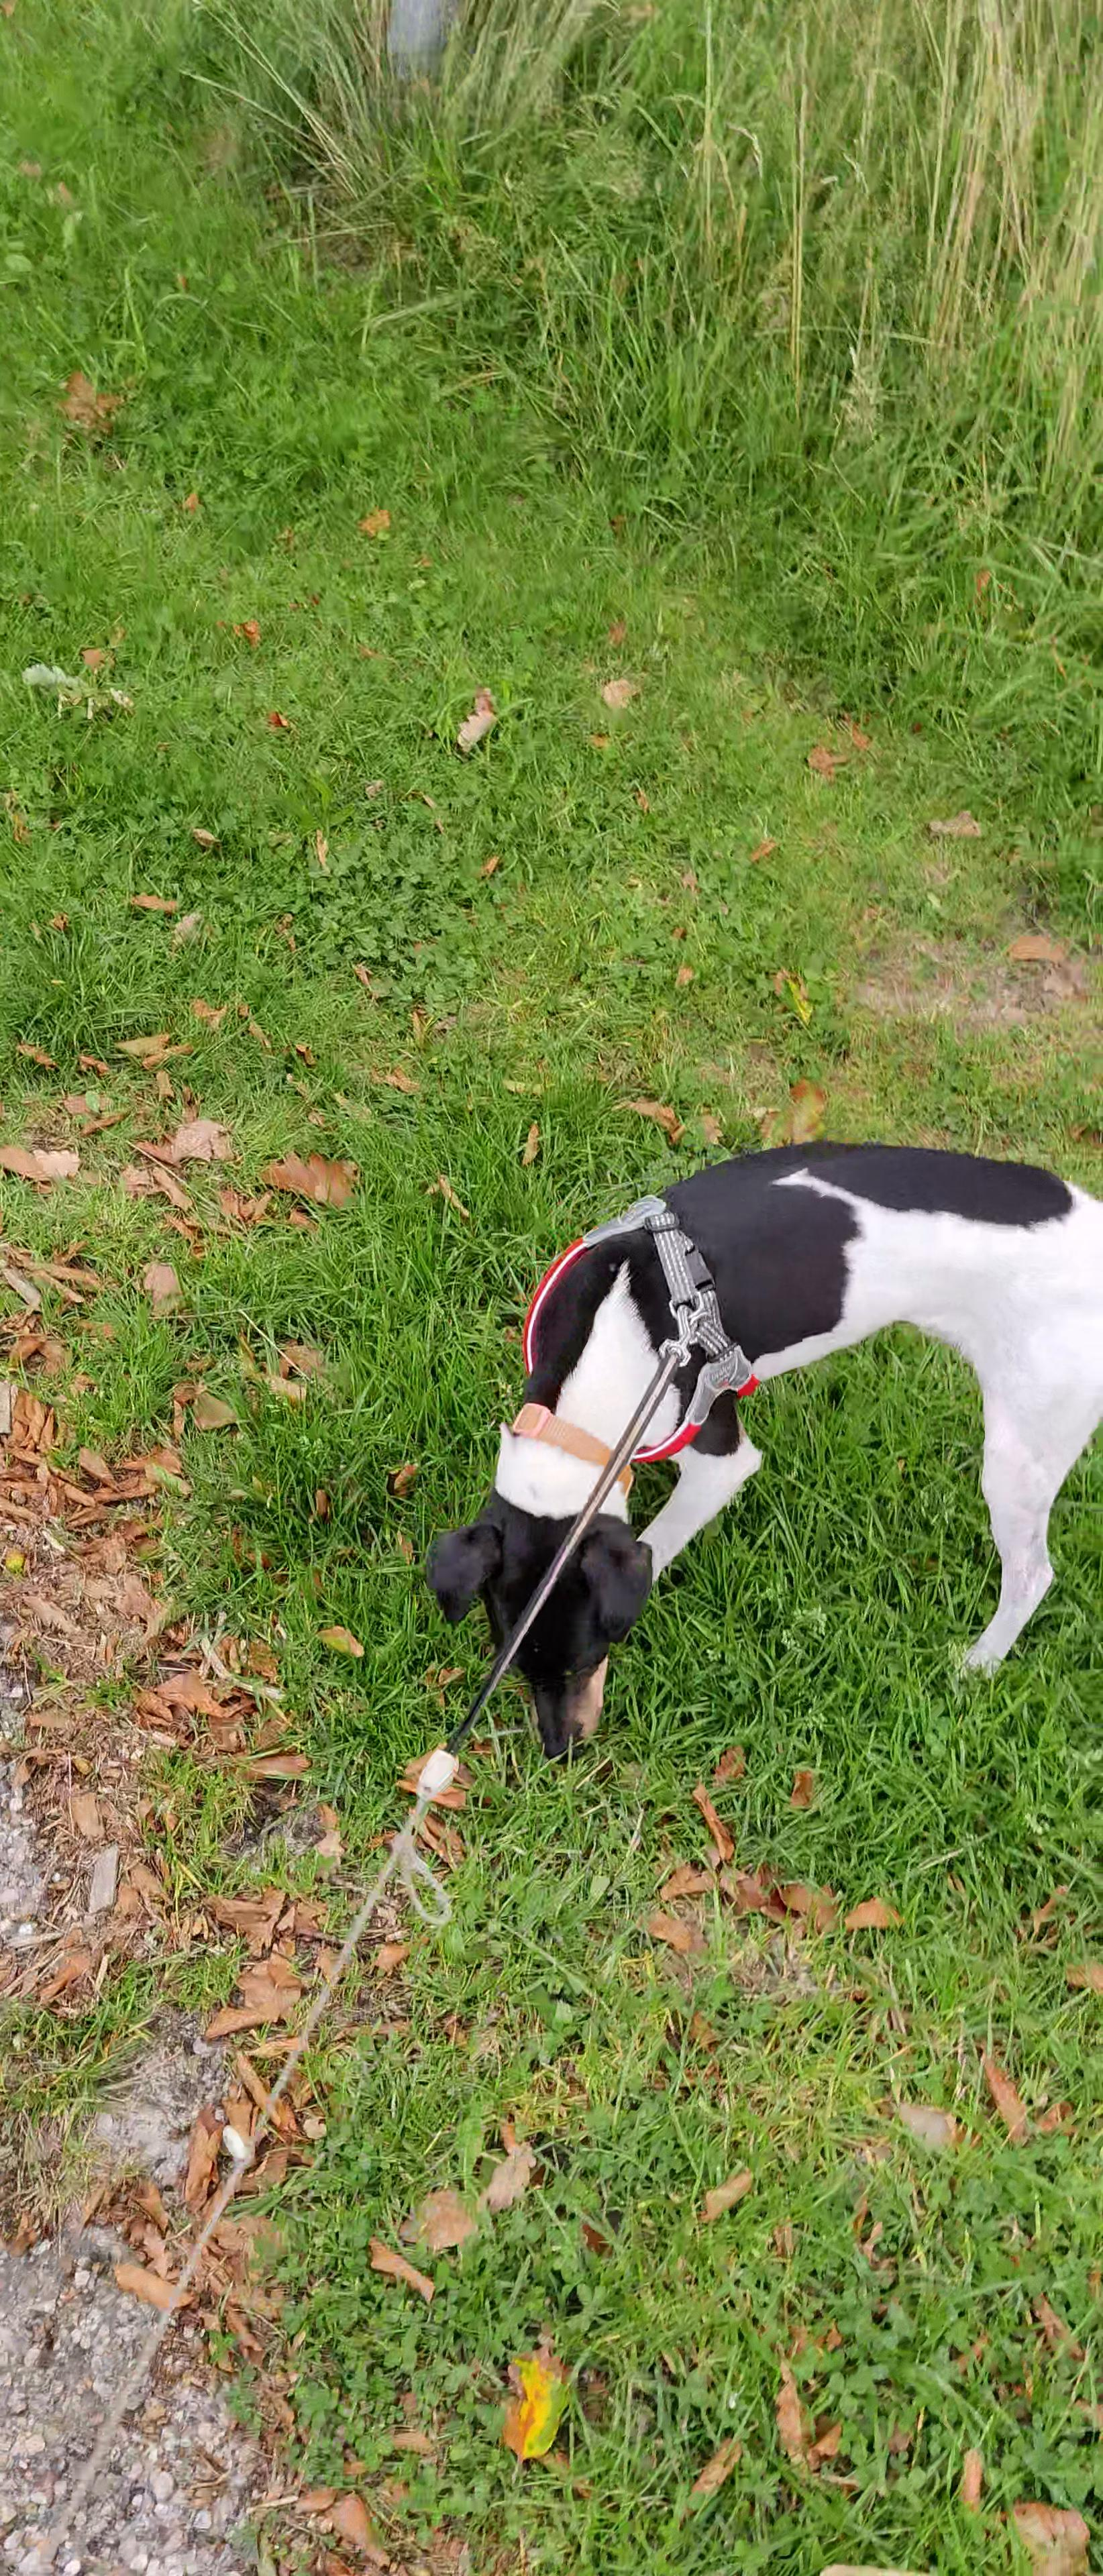Dog: (421, 1124, 1103, 1778)
